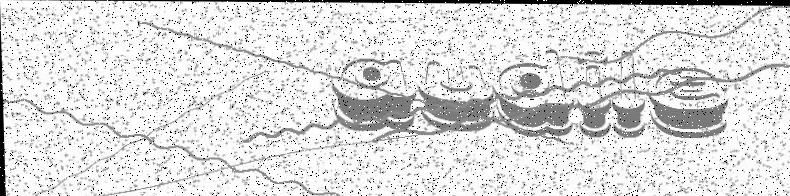a: (330, 53, 418, 134)
d: (493, 47, 576, 138)
e: (644, 59, 731, 139)
i: (578, 45, 612, 137)
l: (610, 44, 648, 139)
u: (417, 56, 496, 135)
